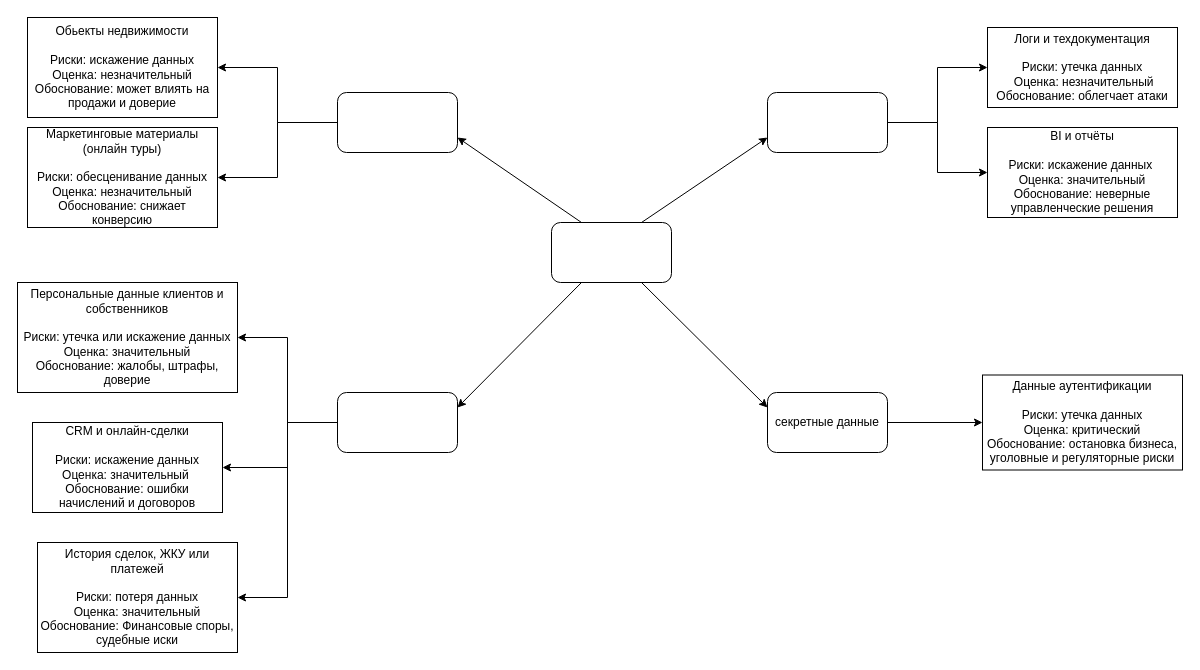
Some shapes in this 1200 by 670 pixel diagram are drawn without their labels. Each missing label, with the centre of its shape:
"Безопасность данных" belongs at (x=611, y=252).
"внутренние данные" belongs at (x=827, y=122).
"конфиденциальные данные" belongs at (x=397, y=422).
"публичные данные" belongs at (x=397, y=122).
